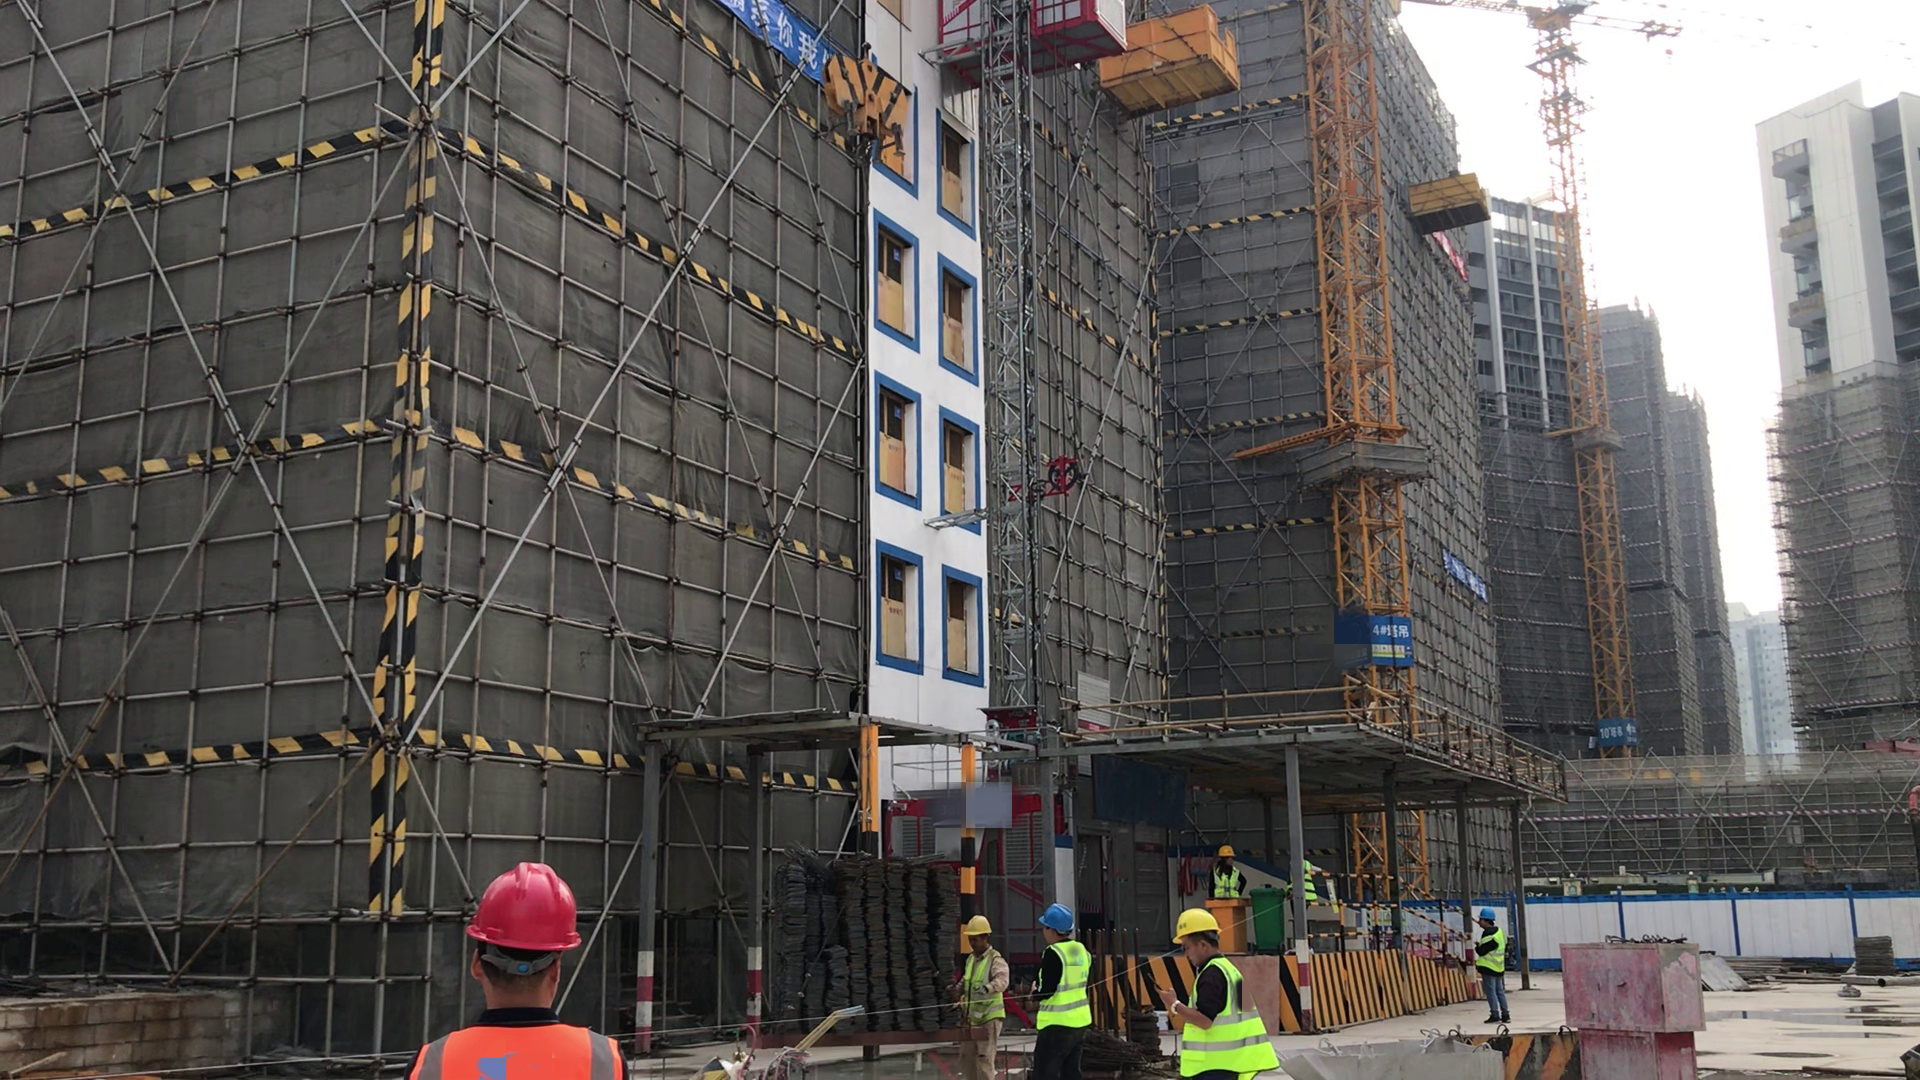helmet: (461, 858, 586, 950), (1163, 904, 1224, 945), (1040, 905, 1077, 934), (961, 910, 993, 941), (1212, 845, 1239, 863), (1476, 906, 1499, 920)
hook: (817, 38, 911, 169)
person: (411, 859, 634, 1080), (1142, 905, 1284, 1080), (1025, 900, 1097, 1080), (952, 909, 1014, 1080), (1473, 907, 1516, 1027), (1205, 835, 1250, 911), (1281, 847, 1325, 906)
slogan: (726, 1, 834, 76)
vest: (1175, 951, 1289, 1075), (419, 1015, 595, 1080), (1028, 939, 1093, 1030), (958, 944, 1006, 1034), (1475, 931, 1508, 974)
